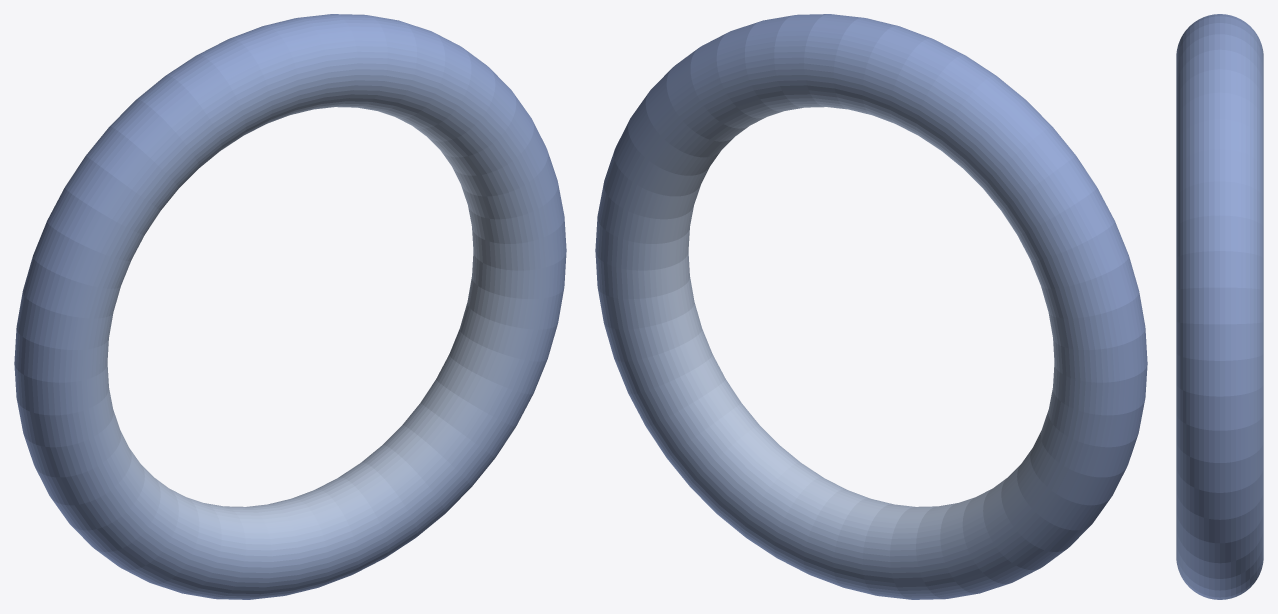
3 renders of one model, left to right at view 1: azimuth 30°, elevation 25°; view 2: azimuth 150°, elevation 25°; view 3: azimuth 270°, elevation 25°, orthographic. The views are drawn at different scales.
Parts seen in each view (by area): view 1: world; view 2: world; view 3: world.
Boxes of the visible parts, x1,y1,x2,y2 form: world: (14, 14, 566, 599); world: (595, 14, 1147, 599); world: (1176, 14, 1263, 599).
Bounding box in the file's own units: 25.87 × 25.82 × 3.86.
